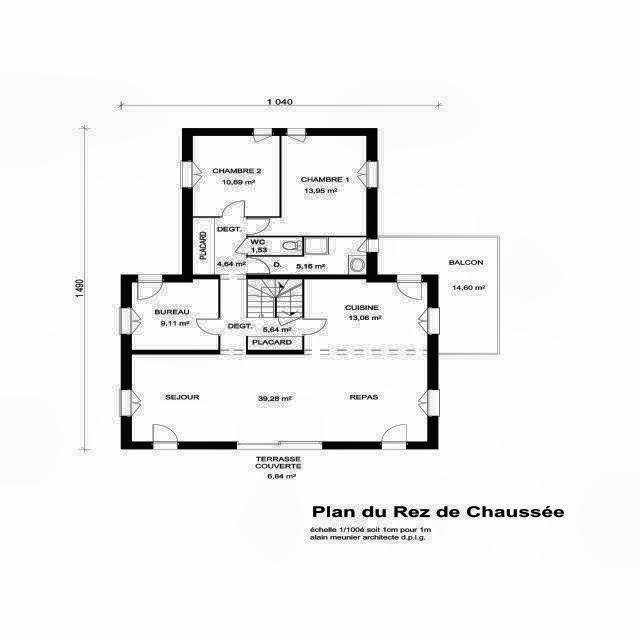room: (132, 279, 427, 441), (193, 217, 302, 350), (248, 136, 367, 236), (193, 136, 279, 216), (132, 280, 218, 350), (248, 237, 366, 274), (248, 237, 302, 255)
